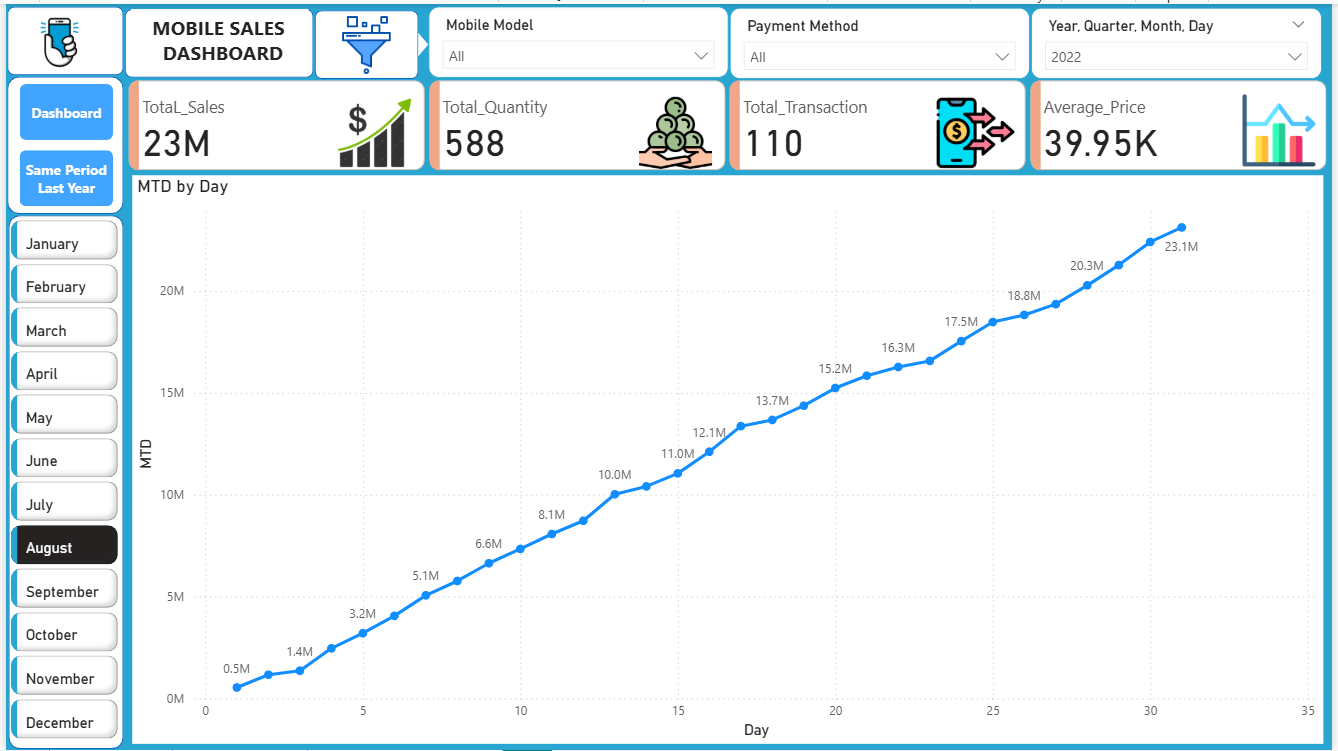

Layout of this report page (visuals, bound fields, positions):
{"tool":"powerbi","page":{"name":"MTD Report","canvas":[1280,720],"ordinal":1},"visuals":[{"type":"shape","box":[1.2,2.4,112.2,66.4],"z":0},{"type":"shape","box":[1.2,70,112.2,132.7],"z":1000},{"type":"cardVisual","fields":{"Data":["Sales_Data.TotaL_Sales","Sales_Data.Total_Quantity","Sales_Data.Total_Transaction","Sales_Data.Average_Price"]},"box":[113.4,68.8,1166.6,97.7],"z":2000},{"type":"image","box":[12.1,1.2,78.4,71.2],"z":3000},{"type":"slicer","fields":{"Values":["Sales_Data.Mobile Model"]},"box":[407.8,2.4,289.5,68.8],"z":4000},{"type":"slicer","fields":{"Values":["Sales_Data.Payment Method"]},"box":[698.5,3.6,289.5,68.8],"z":5000},{"type":"slicer","fields":{"Values":["Costom_Calender.Date.Variation.Date Hierarchy.Year","Costom_Calender.Date.Variation.Date Hierarchy.Quarter","Costom_Calender.Date.Variation.Date Hierarchy.Month","Costom_Calender.Date.Variation.Date Hierarchy.Day"]},"box":[989.3,3.6,281.1,68.8],"z":6000},{"type":"shape","box":[114.6,4.8,182.2,66.4],"z":7000},{"type":"shape","box":[386.1,26.5,21.7,25.3],"z":8000},{"type":"shape","box":[298,6,100.1,66.4],"z":9000},{"type":"image","box":[272.7,6,150.8,67.6],"z":10000},{"type":"textbox","box":[120.6,4.8,171.3,62.7],"z":11000},{"type":"lineChart","fields":{"Y":["Sales_Data.MTD"],"Category":["Costom_Calender.Date.Variation.Date Hierarchy.Year","Costom_Calender.Date.Variation.Date Hierarchy.Quarter","Costom_Calender.Date.Variation.Date Hierarchy.Month","Costom_Calender.Date.Variation.Date Hierarchy.Day"]},"box":[121.9,165.3,1149.7,548.9],"z":12000},{"type":"shape","box":[2.4,203.9,111,515.2],"z":13000},{"type":"advancedSlicerVisual","fields":{"Values":["Costom_Calender.Date.Variation.Date Hierarchy.Month"]},"box":[0,203.9,113.4,516.4],"z":14000},{"type":"pageNavigator","box":[13.3,77.2,90.5,118.2],"z":14001}]}

Visuals, with their boxes in screenshot pixels (x1, y1, x2, y2), scaled from the page's 1280x720 canvas onto the 1338x751 screenshot:
shape: Rect(1, 3, 119, 72)
shape: Rect(1, 73, 119, 211)
cardVisual - Sales_Data.TotaL_Sales x Sales_Data.Total_Quantity: Rect(119, 72, 1337, 174)
image: Rect(13, 1, 95, 76)
slicer - Sales_Data.Mobile Model: Rect(426, 3, 729, 74)
slicer - Sales_Data.Payment Method: Rect(730, 4, 1033, 76)
slicer - Costom_Calender.Date.Variation.Date Hierarchy.Year x Costom_Calender.Date.Variation.Date Hierarchy.Quarter: Rect(1034, 4, 1328, 76)
shape: Rect(120, 5, 310, 74)
shape: Rect(404, 28, 426, 54)
shape: Rect(312, 6, 416, 76)
image: Rect(285, 6, 443, 77)
textbox: Rect(126, 5, 305, 70)
lineChart - Sales_Data.MTD x Costom_Calender.Date.Variation.Date Hierarchy.Year: Rect(127, 172, 1329, 745)
shape: Rect(3, 213, 119, 750)
advancedSlicerVisual - Costom_Calender.Date.Variation.Date Hierarchy.Month: Rect(0, 213, 119, 750)
pageNavigator: Rect(14, 81, 109, 204)
